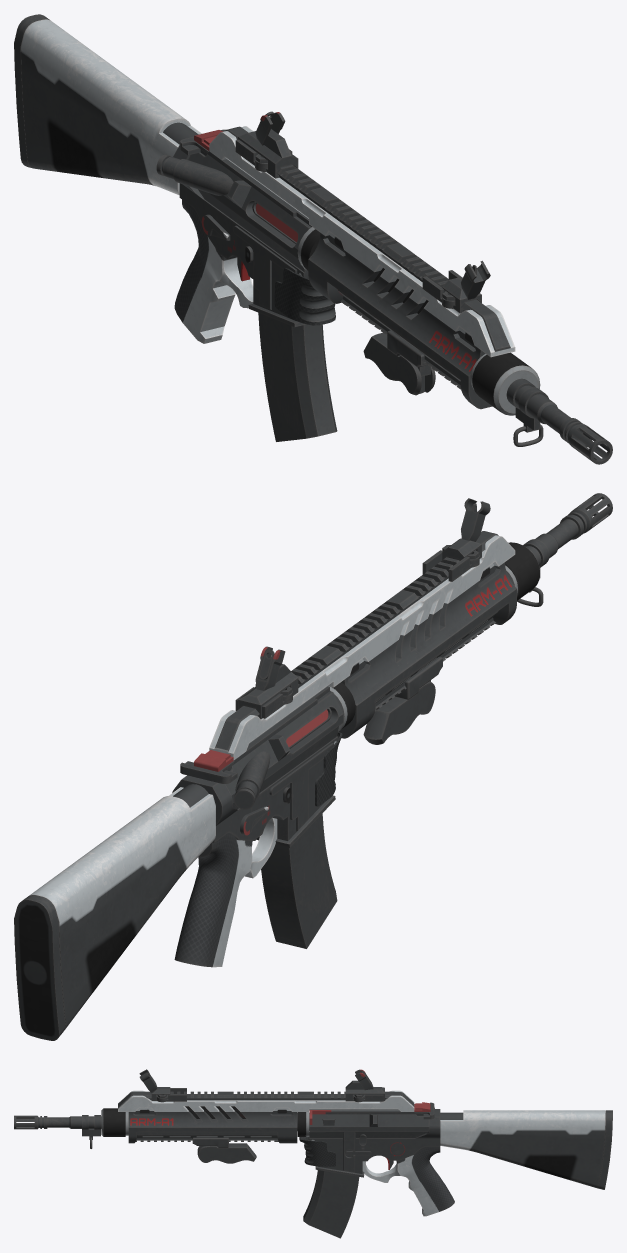
Rendered from arm-a1.fbx.
3 views of the same model, one above another, from view 1: azimuth 30°, elevation 25°; view 2: azimuth 150°, elevation 25°; view 3: azimuth 270°, elevation 25° (orthographic). The views are drawn at different scales.
Visible parts, largest first — view 1: gun, magazine_low, bolt_low; view 2: gun, magazine_low, bolt_low; view 3: gun, magazine_low, bolt_low.
Part boxes in pixels (x1,y1,x2,y2): gun: [14, 14, 612, 464]; magazine_low: [258, 312, 337, 441]; bolt_low: [180, 129, 311, 226]; gun: [14, 493, 612, 1040]; magazine_low: [261, 813, 337, 948]; bolt_low: [180, 686, 329, 783]; gun: [14, 1069, 612, 1216]; magazine_low: [303, 1170, 359, 1238]; bolt_low: [309, 1102, 434, 1124].
Bounding box in the file's own units: 7.57 × 26.48 × 87.7.
